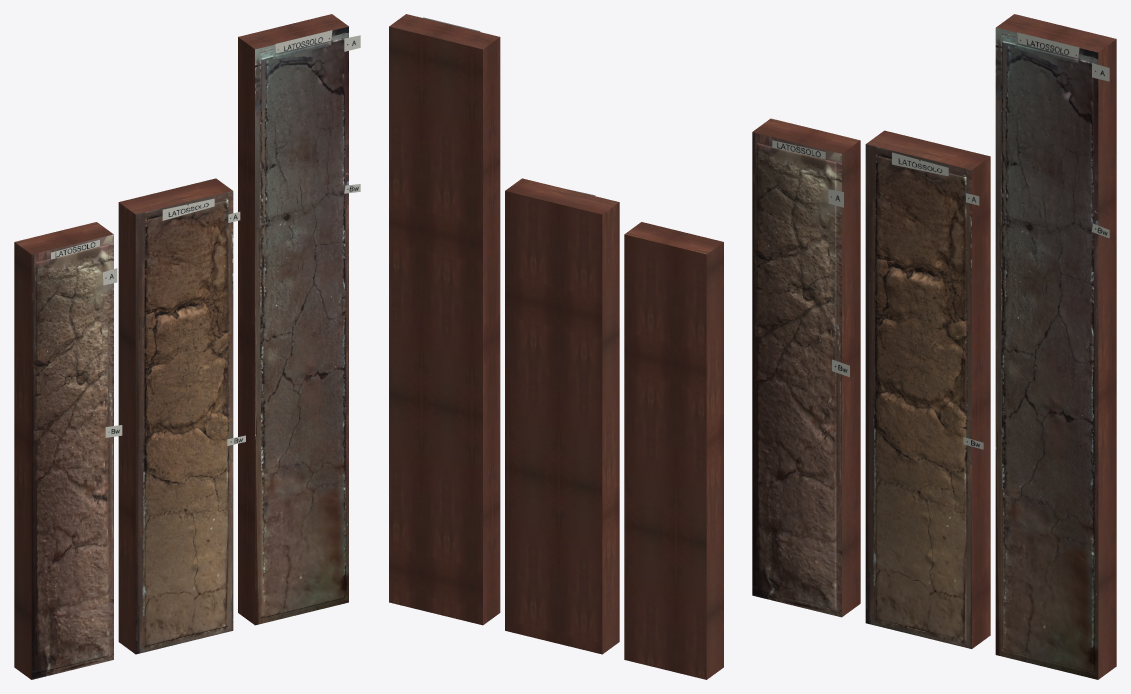
The model's file is perfis_latossolo.glb.
3 views of the same model, side by side, from view 1: azimuth 30°, elevation 25°; view 2: azimuth 150°, elevation 25°; view 3: azimuth 330°, elevation 25° (orthographic). The views are drawn at different scales.
Parts seen in each view (by area): view 1: Solo_11_12, Solo_11_09, Solo_11_08, Madeira_11_12, Madeira_11_09, Madeira_11_08, Moldura_11_09, Moldura_11_12, Moldura_11_08, Rotulos_11_12, Rotulos_11_09, Rotulos_11_08; view 2: Madeira_11_12, Madeira_11_09, Madeira_11_08; view 3: Solo_11_12, Solo_11_09, Solo_11_08, Madeira_11_12, Madeira_11_09, Madeira_11_08, Moldura_11_09, Moldura_11_12, Moldura_11_08, Rotulos_11_12, Rotulos_11_09, Rotulos_11_08.
Part boxes in pixels (x1,y1,x2,y2): Solo_11_12: (260,38,344,618); Solo_11_09: (145,200,228,646); Solo_11_08: (36,244,108,673); Madeira_11_12: (238,14,348,624); Madeira_11_09: (118,178,232,653); Madeira_11_08: (14,222,113,679); Moldura_11_09: (135,191,233,654); Moldura_11_12: (255,26,348,625); Moldura_11_08: (31,234,113,679); Rotulos_11_12: (275,30,360,193); Rotulos_11_09: (162,198,245,445); Rotulos_11_08: (51,239,122,437); Madeira_11_12: (389,14,500,625); Madeira_11_09: (505,178,619,654); Madeira_11_08: (624,222,723,679); Solo_11_12: (1001,41,1093,672); Solo_11_09: (875,155,966,641); Solo_11_08: (756,143,836,610); Madeira_11_12: (996,14,1116,679); Madeira_11_09: (866,130,990,648); Madeira_11_08: (752,118,860,616); Moldura_11_09: (865,144,971,648); Moldura_11_12: (995,27,1098,679); Moldura_11_08: (752,132,841,617); Rotulos_11_12: (1017,32,1109,238); Rotulos_11_09: (892,152,983,449); Rotulos_11_08: (772,140,849,377).
Bounding box in the file's own units: 1.2 × 2.01 × 0.1216.
12 materials, 12 textured.
